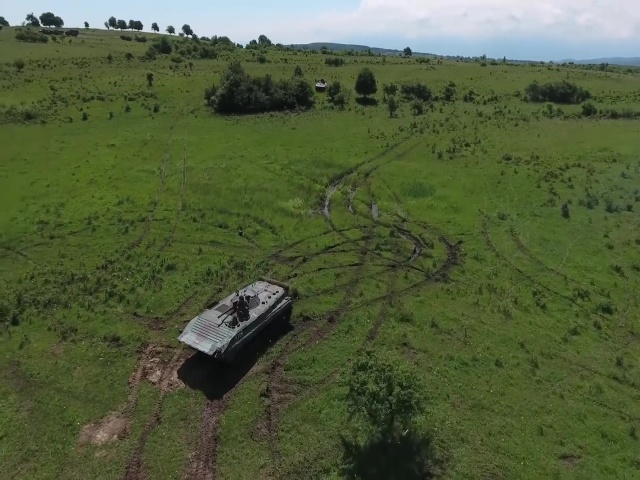vehicle: (178, 277, 294, 361), (314, 78, 328, 91)
